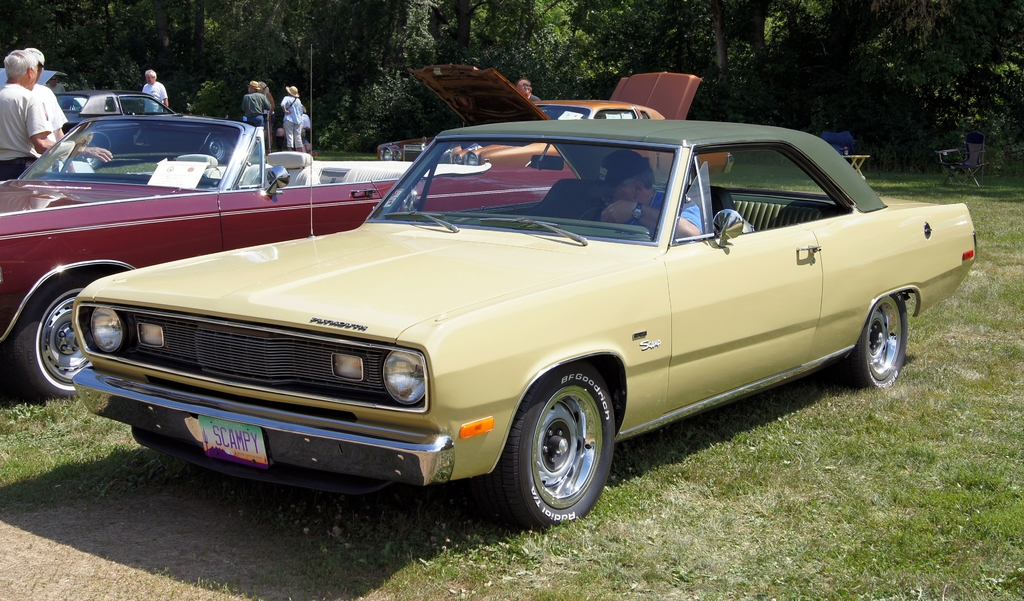Car: (0, 92, 551, 407), (373, 64, 731, 173), (0, 69, 250, 170)
